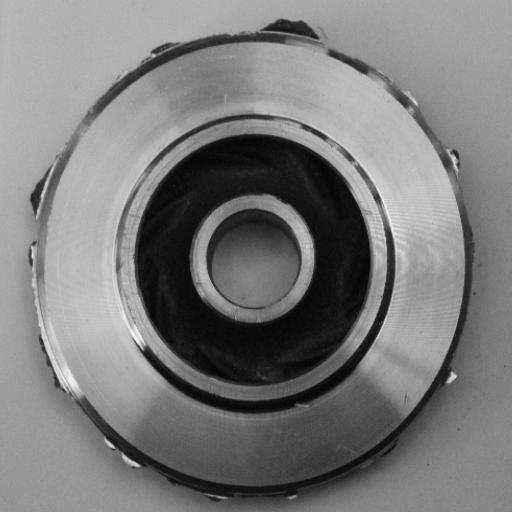casting_with_burr: (25, 15, 471, 508)
scratch: (108, 234, 152, 367)
